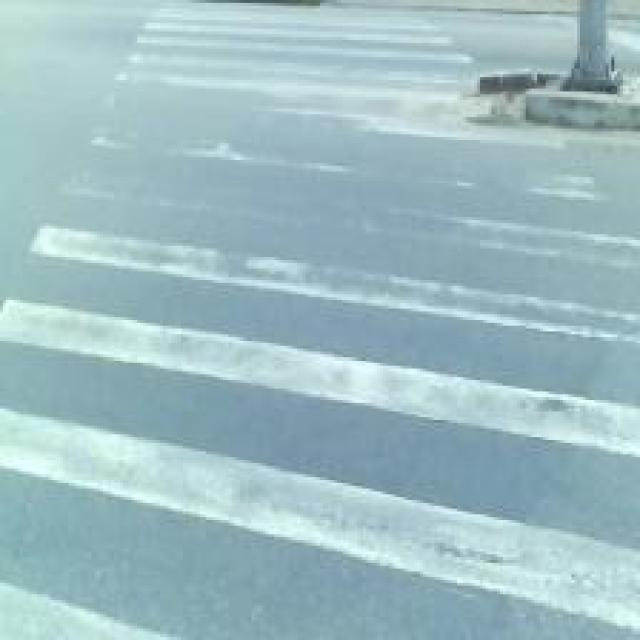zebra: (2, 0, 640, 638)
